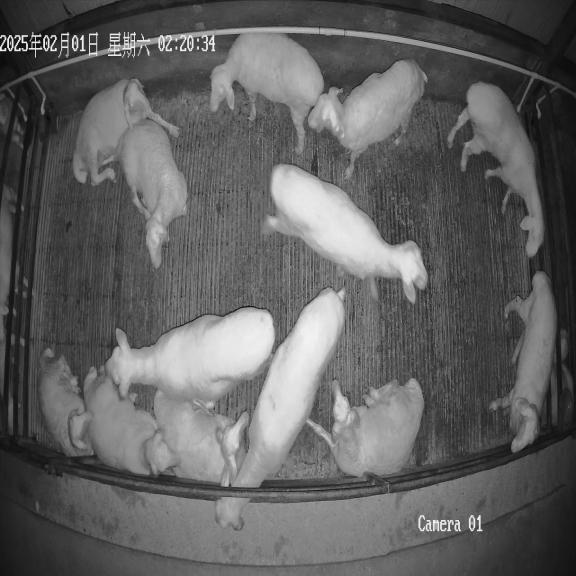eating: (214, 288, 346, 536)
lying: (307, 378, 424, 477), (72, 79, 179, 185), (117, 118, 187, 268), (84, 370, 176, 474), (146, 390, 249, 482), (37, 348, 93, 456)
stand: (261, 164, 428, 302), (105, 307, 275, 409), (448, 82, 544, 258), (307, 60, 427, 179), (210, 33, 324, 154), (489, 271, 557, 452)
